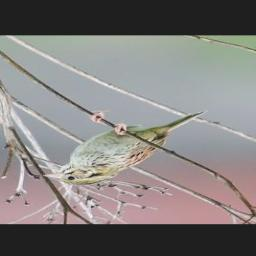Sparrow: (40, 110, 208, 187)
